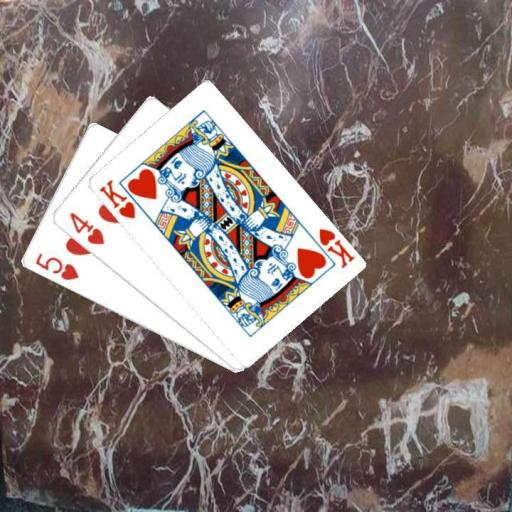4H: (65, 208, 106, 247)
5H: (32, 250, 81, 282)
KH: (315, 225, 356, 270), (96, 177, 137, 221)
